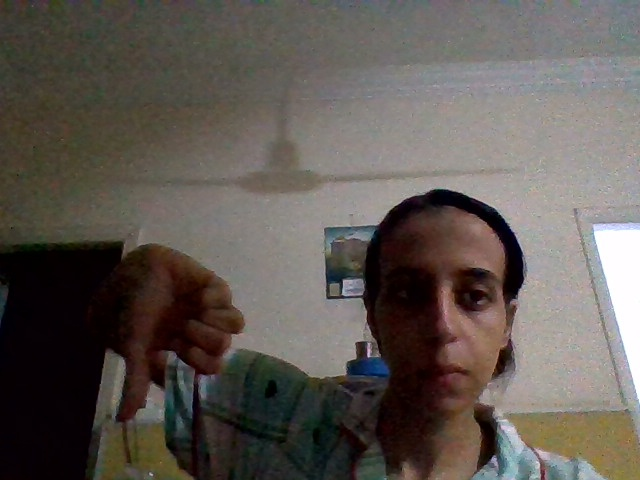ThumbsDown: (113, 241, 246, 424)
